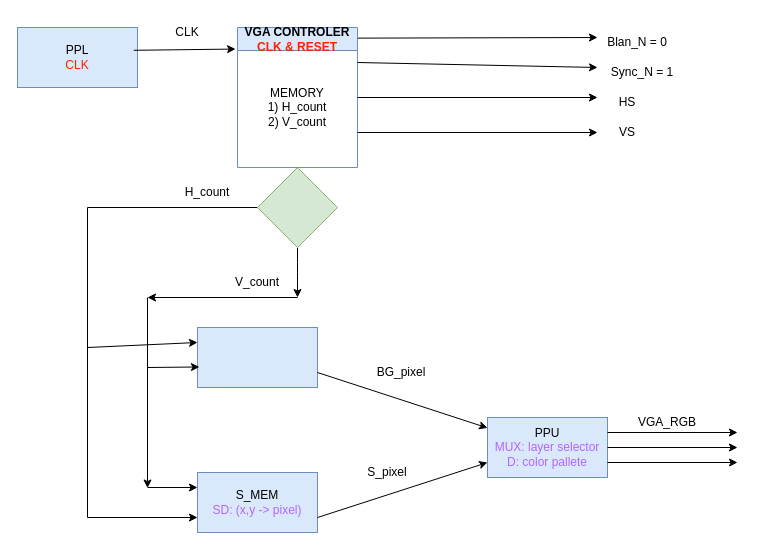
Image size: 763x550. Some labels were removed from this diagram. The box of each missing label's shape, as (x1, y1, x2, y2) in pixels:
BG_MEM SD: (x,y -> pixel): (196, 326, 318, 388)
EN_VIS: (256, 166, 338, 248)
